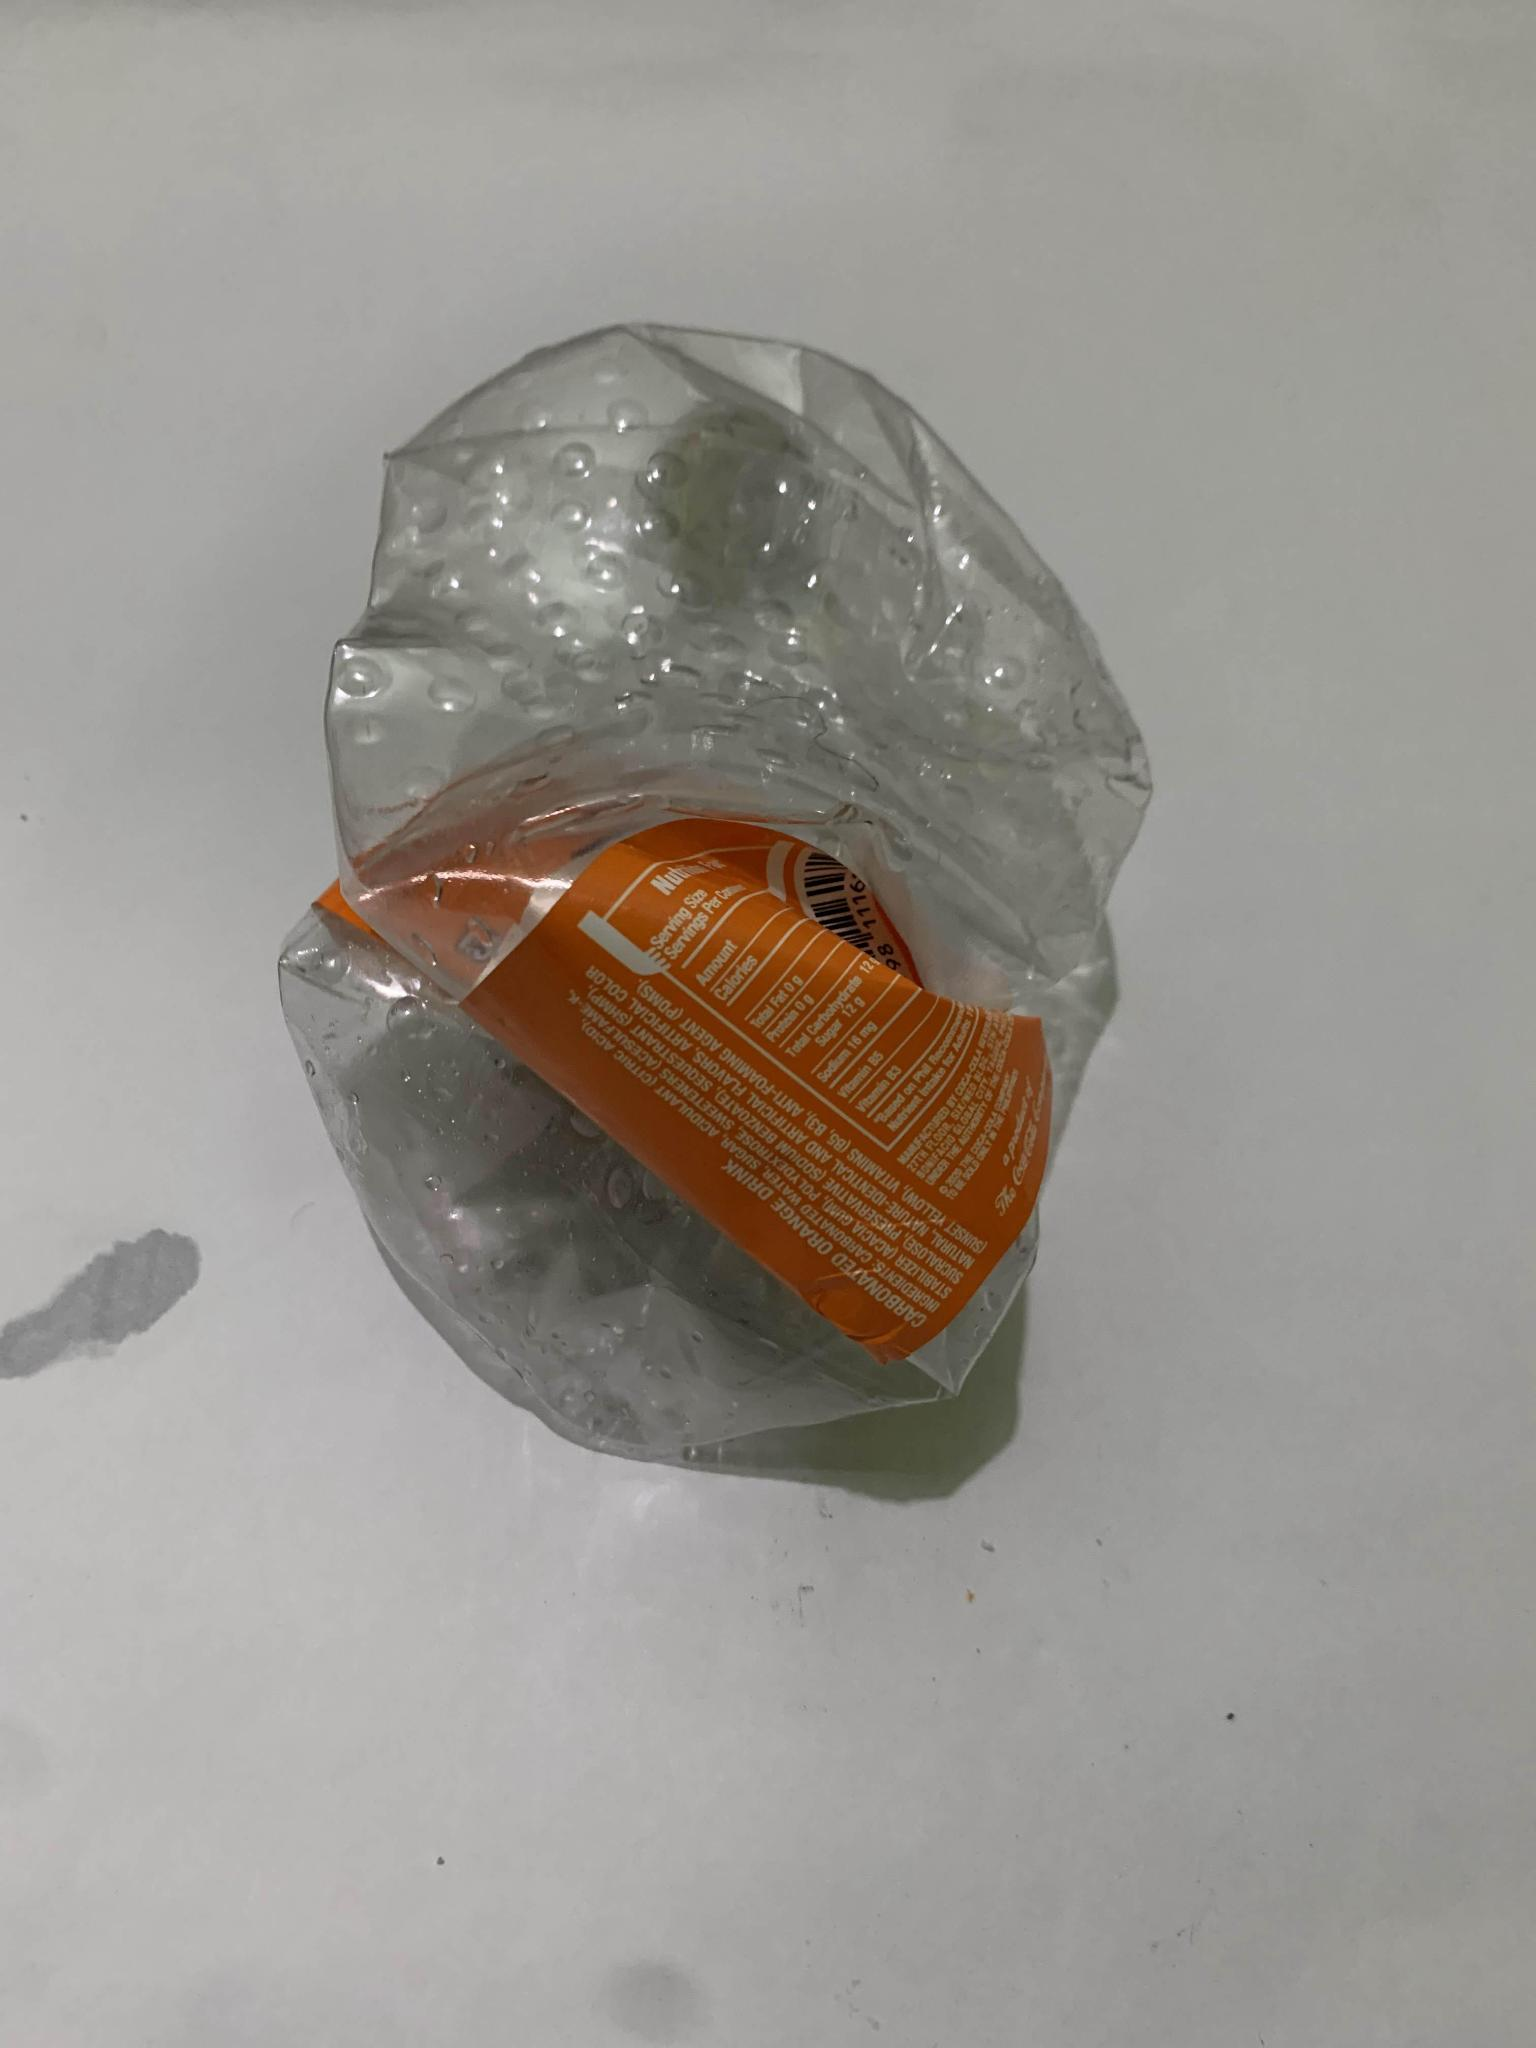bottle: (245, 224, 1162, 1566)
